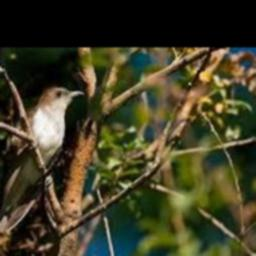Cuckoo: (0, 87, 84, 256)
